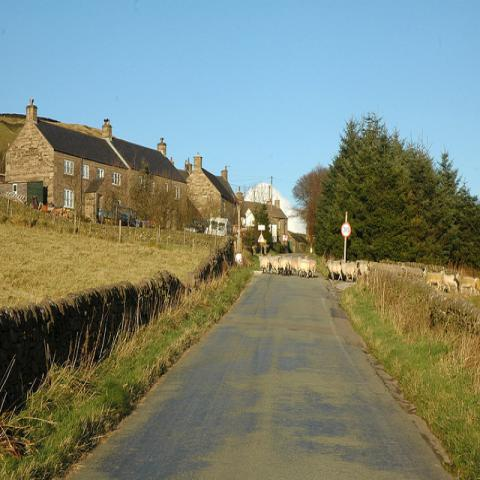bus: (207, 217, 234, 238)
car: (184, 222, 206, 233)
truck: (98, 205, 137, 228)
